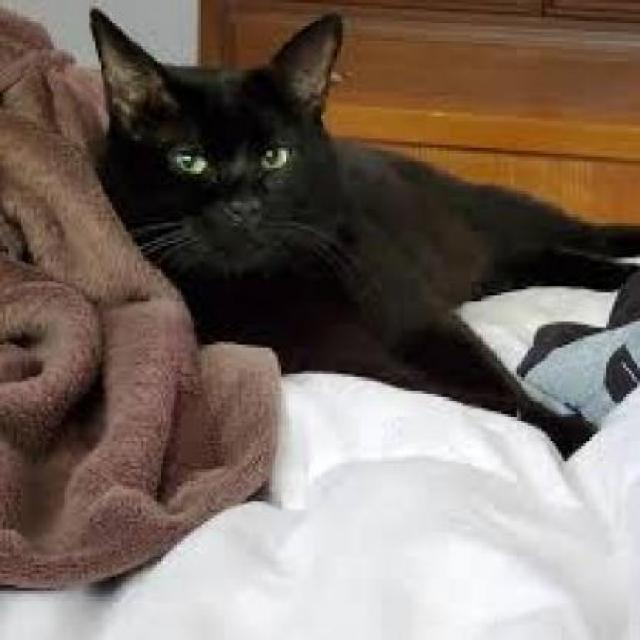animals: (84, 14, 624, 423)
